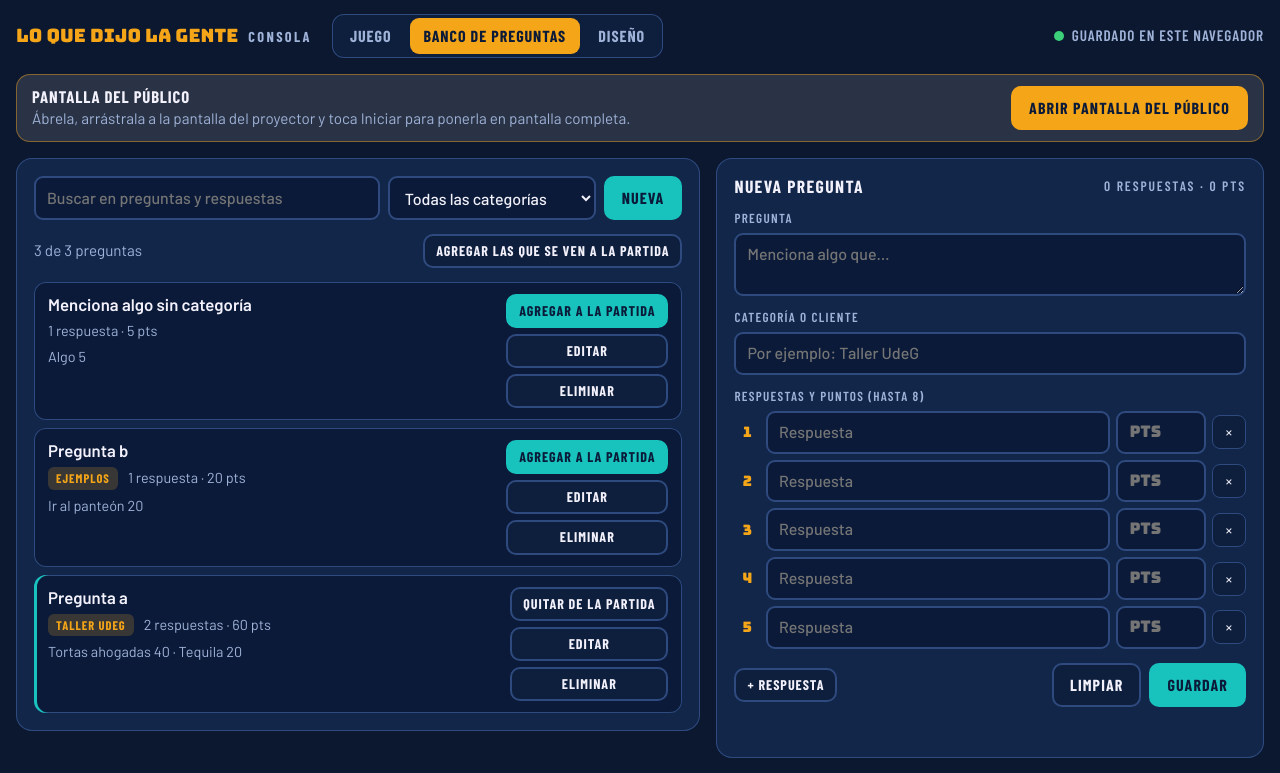
Bank · question form › creates a question sorted by points, skipping empty rows, with live totals
Expected: the text "0 respuestas · 0 pts" is shown, [1104,178,1246,195]
In the text box labelled "Pregunta": (990, 265) [734,233,1246,296], type "Menciona una fruta"
In the field with id "fCat": (990, 354) [734,332,1246,375], type "Cliente X"
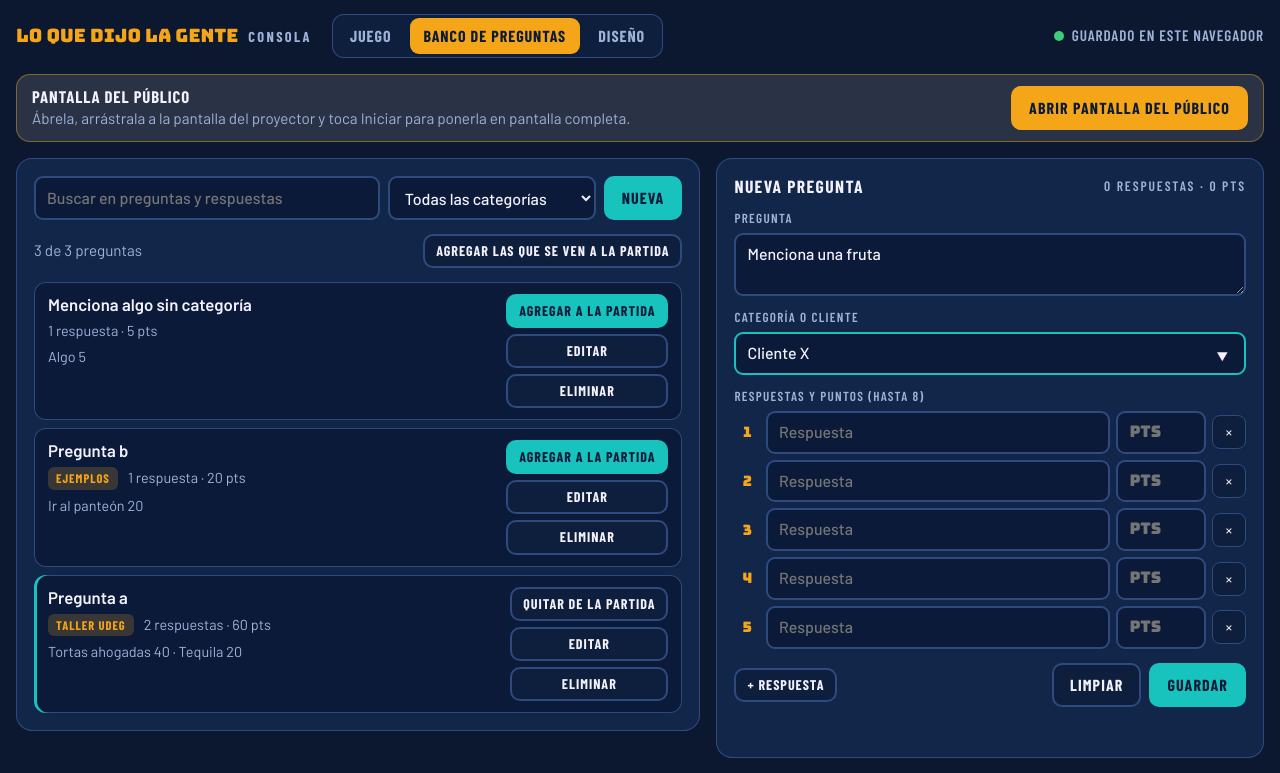
In the field named "Respuesta 1": (938, 432) [766,411,1110,454], type "Pera"
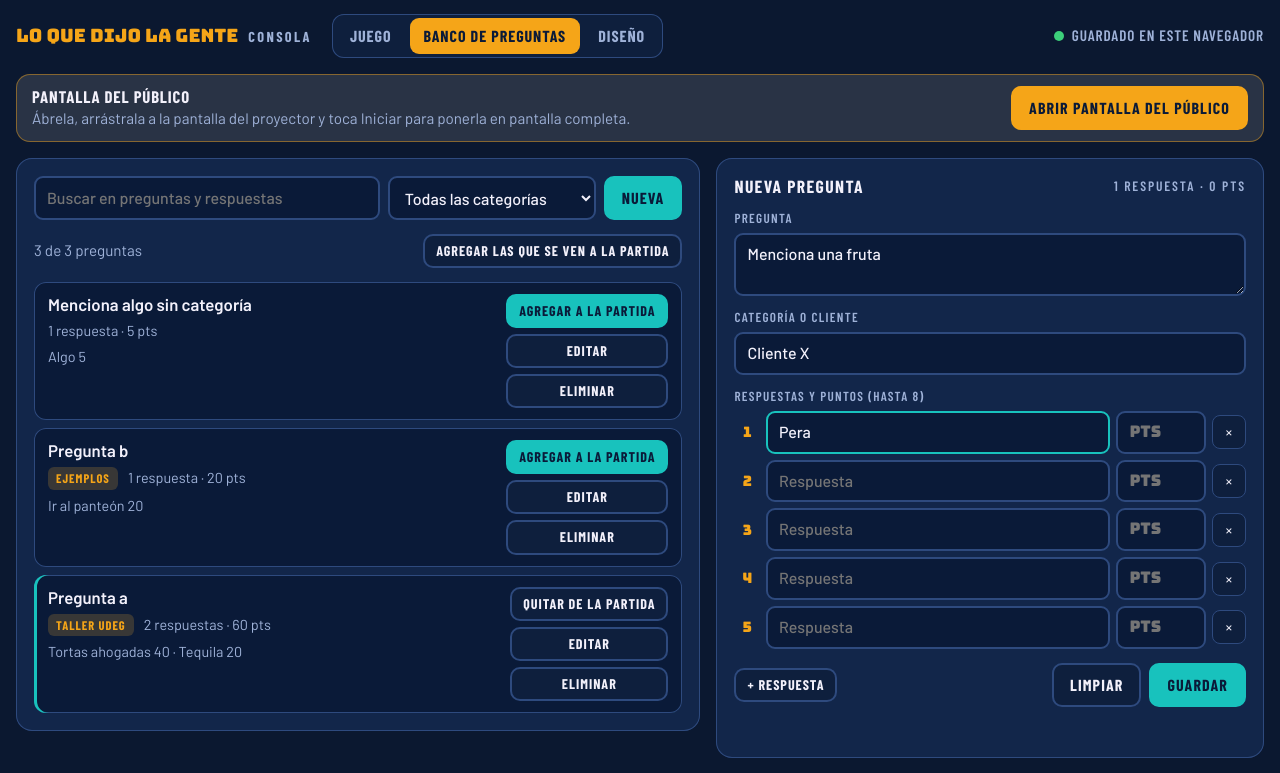
In the number field named "Puntos de la respuesta 1": (1161, 432) [1116,411,1206,454], type "10"
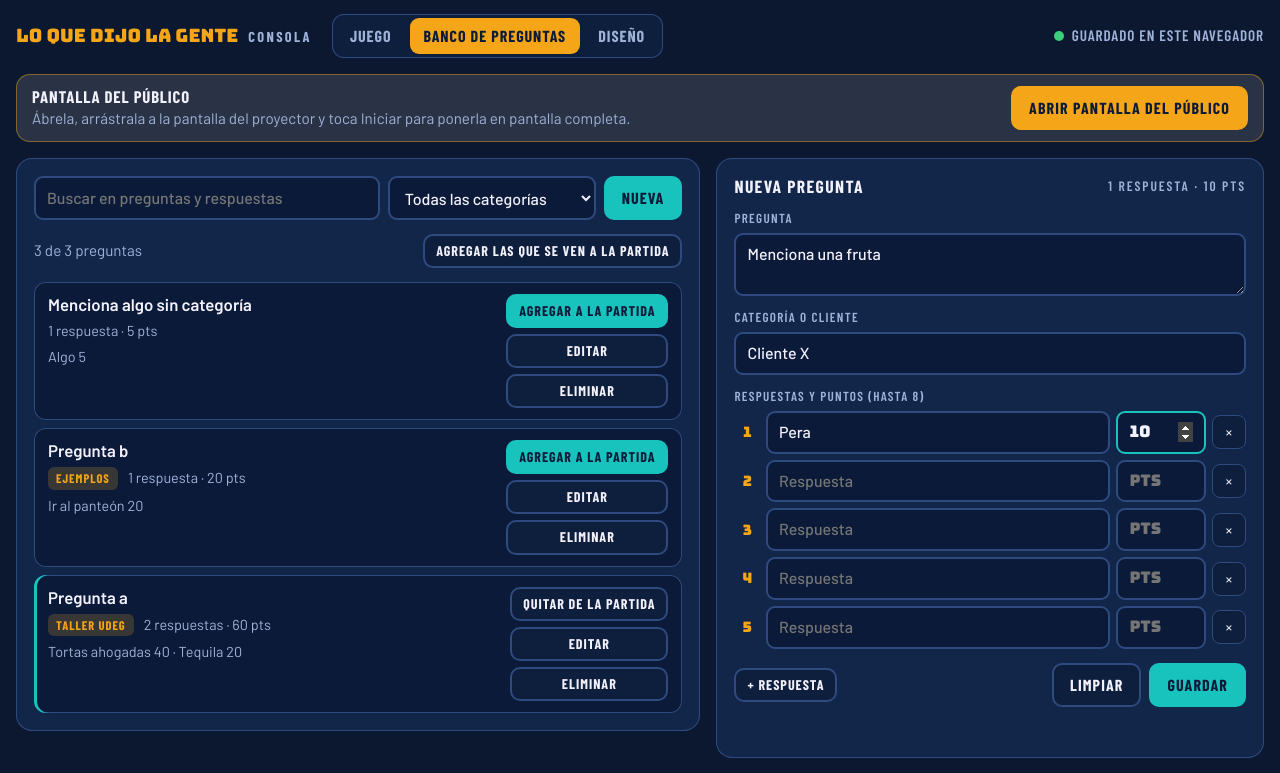
In the field named "Respuesta 3": (938, 530) [766,508,1110,551], type "Mango"
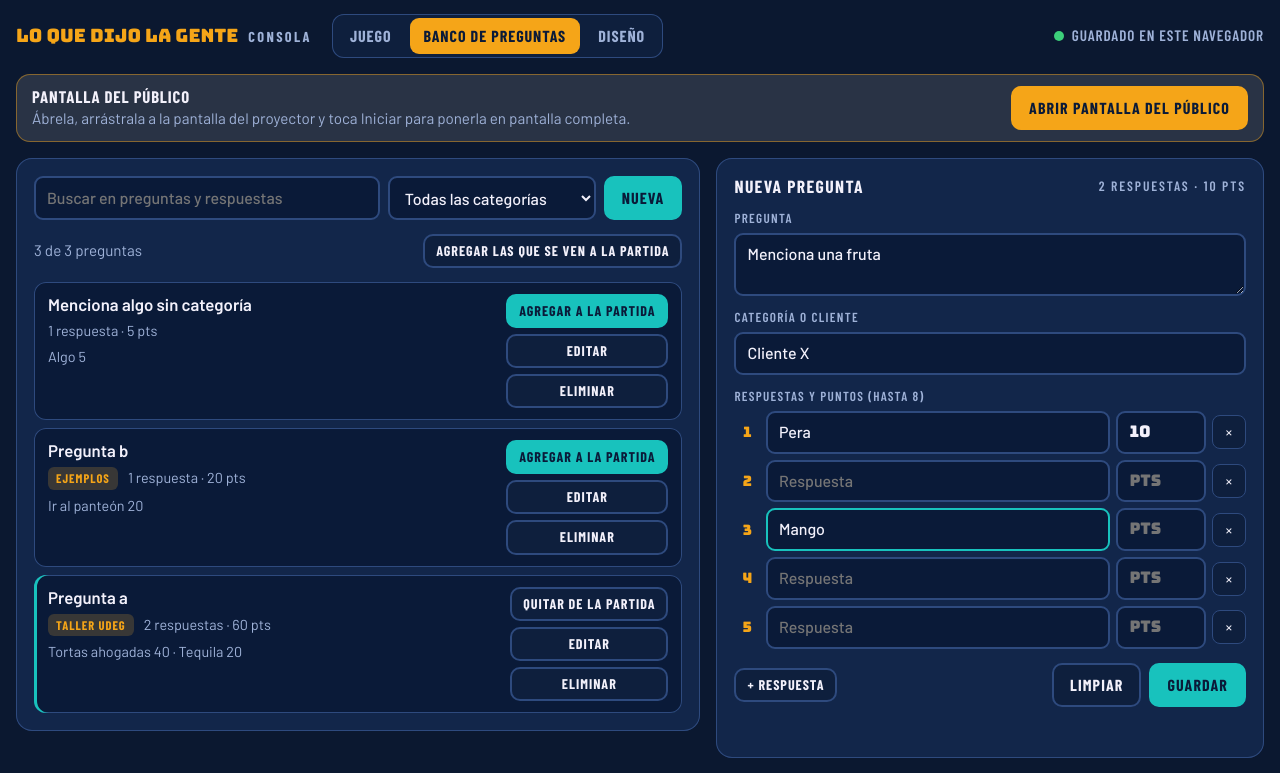
In the number field named "Puntos de la respuesta 3": (1161, 530) [1116,508,1206,551], type "30"
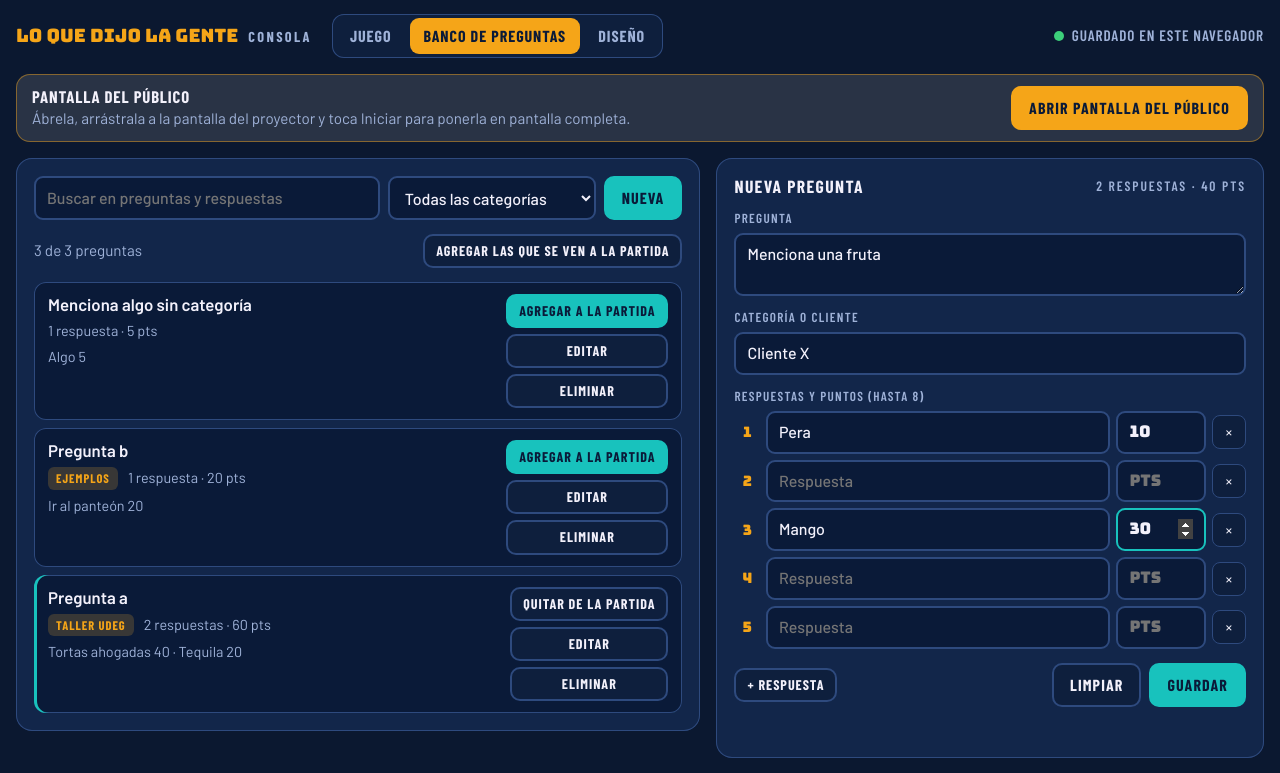
Expected: the text "2 respuestas · 40 pts" is shown, [1096,178,1246,195]
Click the button "Guardar": (1198, 685) [1150,663,1246,707]
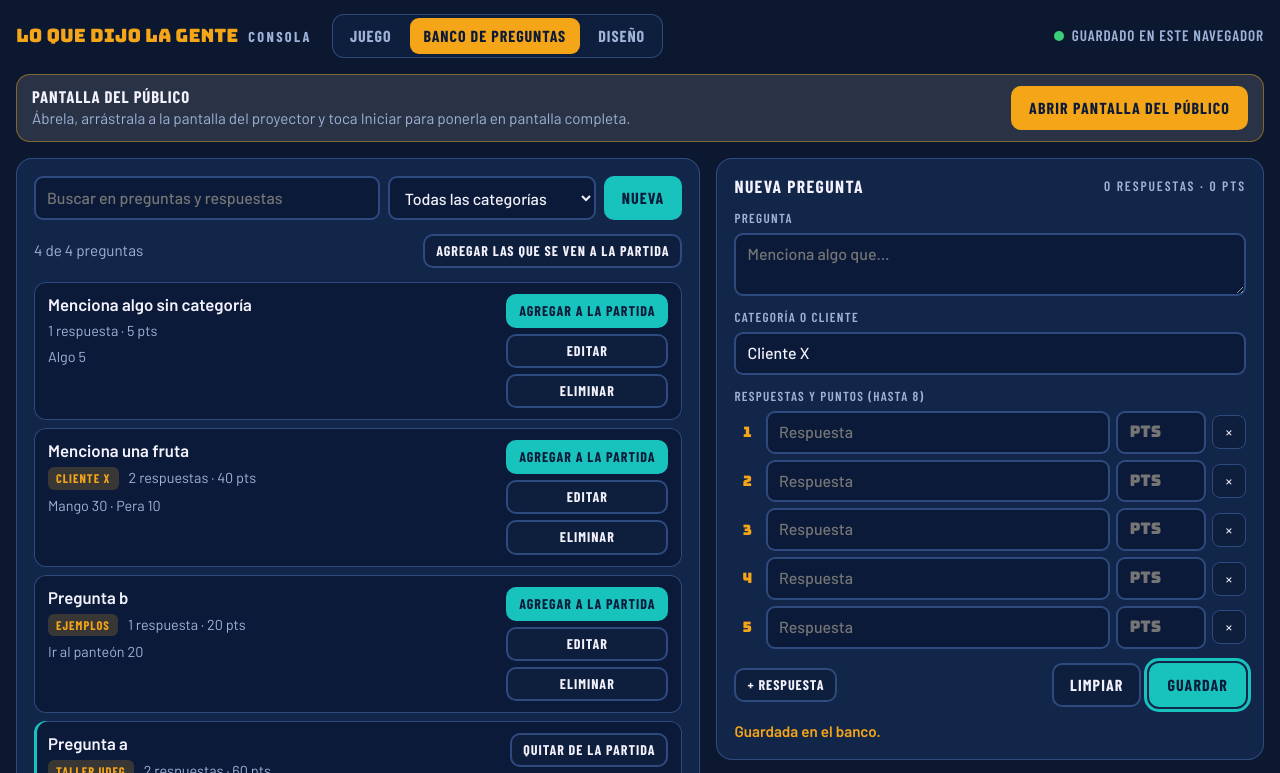
Expected: the text "Guardada en el banco." is shown, [734,722,881,740]
Expected: the text box labelled "Pregunta" is empty, [734,233,1246,296]
Expected: the text "4 de 4 preguntas" is shown, [34,240,143,262]
